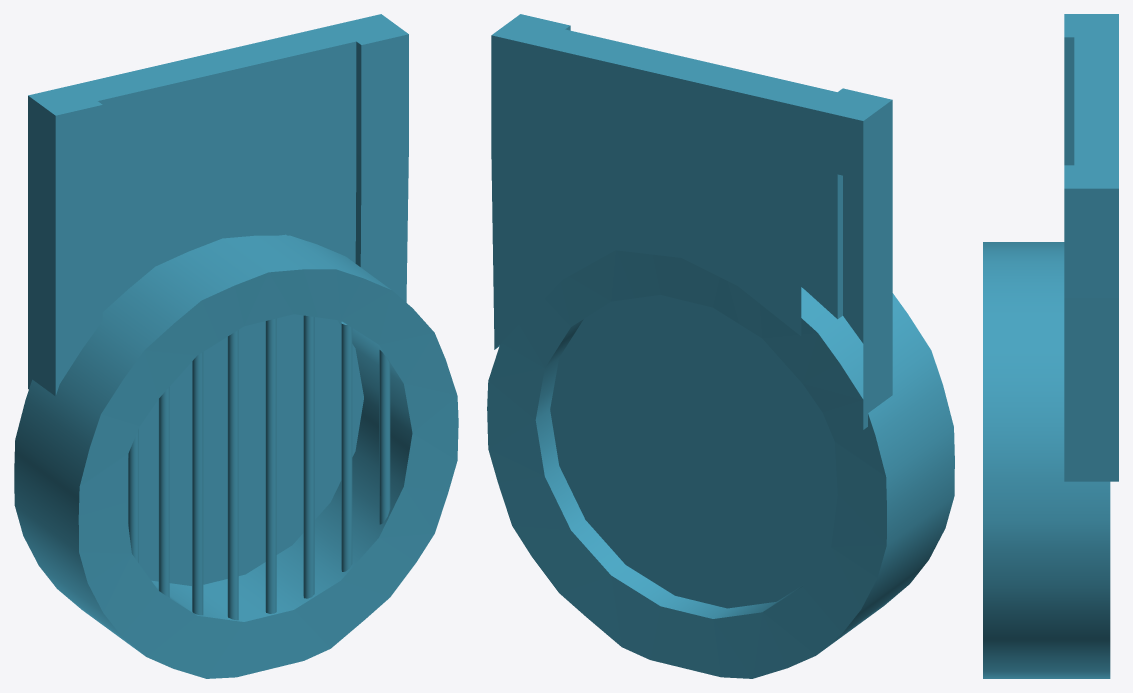
Rendered from rejilla.fbx.
The picture shows the model from 3 angles, left to right: view 1: azimuth 30°, elevation 25°; view 2: azimuth 150°, elevation 25°; view 3: azimuth 270°, elevation 25°; orthographic projection. The views are drawn at different scales.
Parts seen in each view (by area): view 1: Cylinder012; view 2: Cylinder012; view 3: Cylinder012.
Part boxes in pixels (box(x1,y1,x2,y2)): Cylinder012: box(14, 14, 458, 678); Cylinder012: box(487, 14, 954, 678); Cylinder012: box(983, 14, 1118, 678).
Size of the model in its own units: 33.05 by 47.02 by 10.37.
